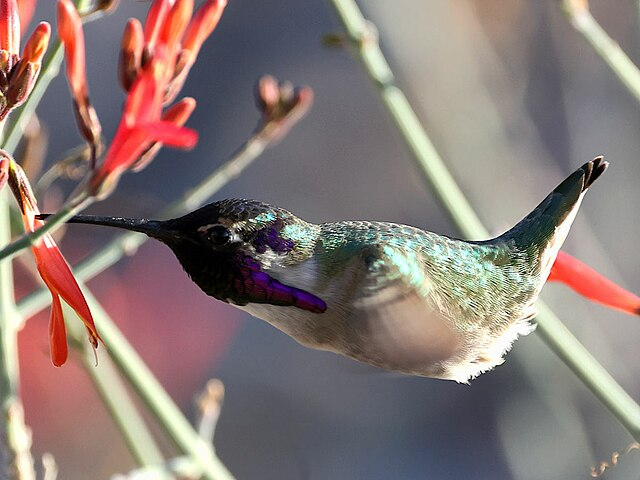calypte costae: (35, 153, 610, 381)
